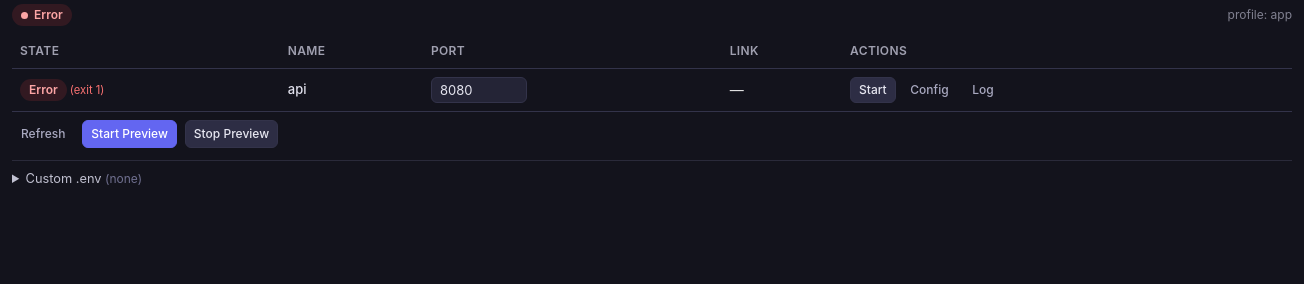
PreviewPanel against the services › the log toggle fetches and shows a service's captured output
What coordinates should you click on to do the following:
click the button "Log"
I would click on:
 (983, 90)
Its box is left=963, top=77, right=1003, bottom=103.
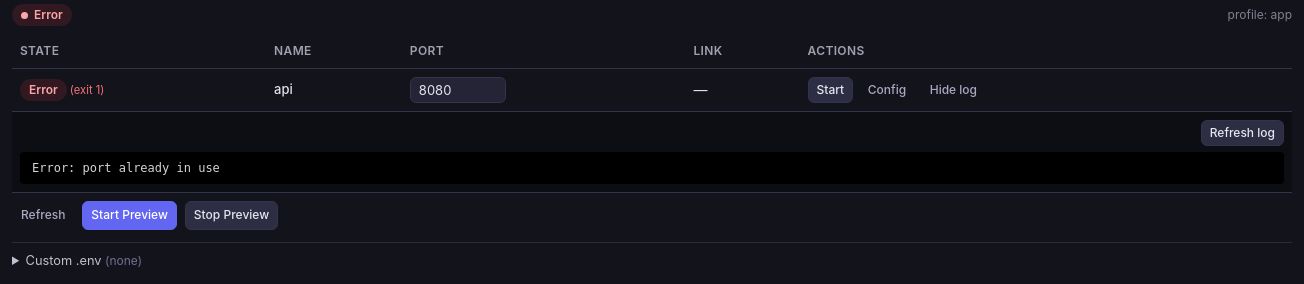
Result: the text "Error: port already in use" is shown at left=20, top=152, right=1284, bottom=184
